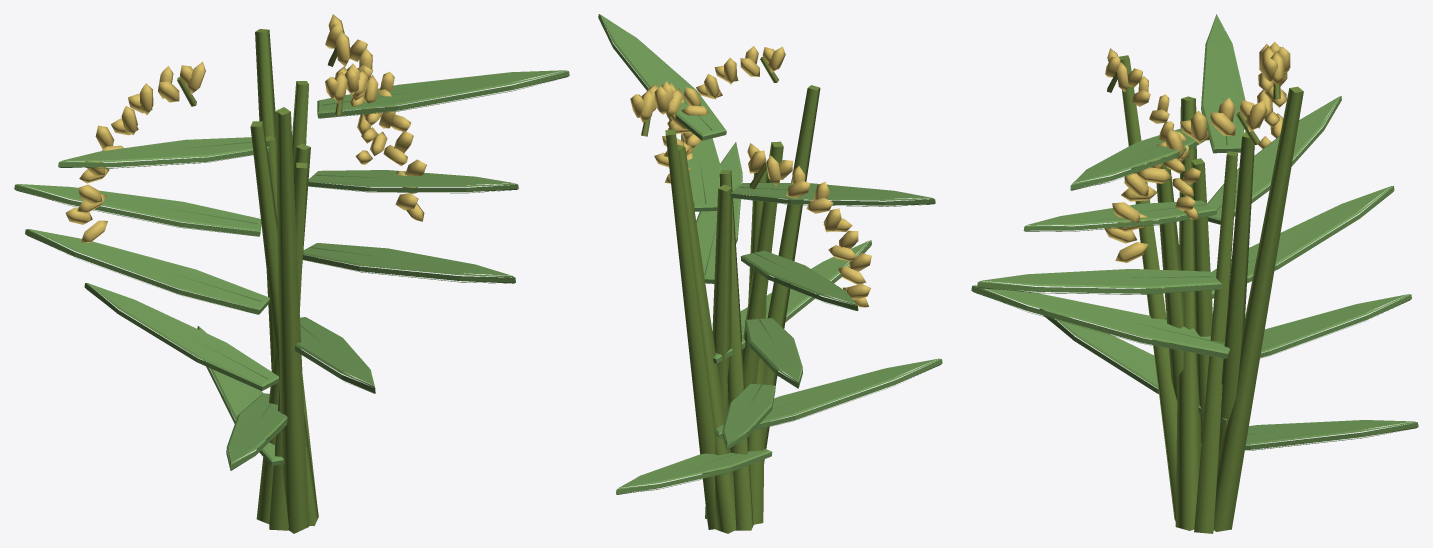
Rendered from rice.glb.
3 renders of one model, left to right at view 1: azimuth 30°, elevation 25°; view 2: azimuth 150°, elevation 25°; view 3: azimuth 270°, elevation 25°, orthographic. The views are drawn at different scales.
Visible parts, largest first — view 1: cropLeafInstances, cropStemInstances, cropFruitInstances; view 2: cropLeafInstances, cropStemInstances, cropFruitInstances; view 3: cropLeafInstances, cropStemInstances, cropFruitInstances.
Boxes of the visible parts, x1,y1,x2,y2 form: cropLeafInstances: (14, 70, 569, 470); cropStemInstances: (250, 29, 318, 533); cropFruitInstances: (65, 14, 426, 242); cropLeafInstances: (598, 14, 942, 494); cropStemInstances: (665, 85, 820, 533); cropFruitInstances: (630, 46, 871, 307); cropLeafInstances: (971, 14, 1418, 450); cropStemInstances: (1118, 55, 1303, 533); cropFruitInstances: (1104, 41, 1290, 262).
Size of what is drawn, in the model's own units: 1.29 by 1.35 by 1.16.
